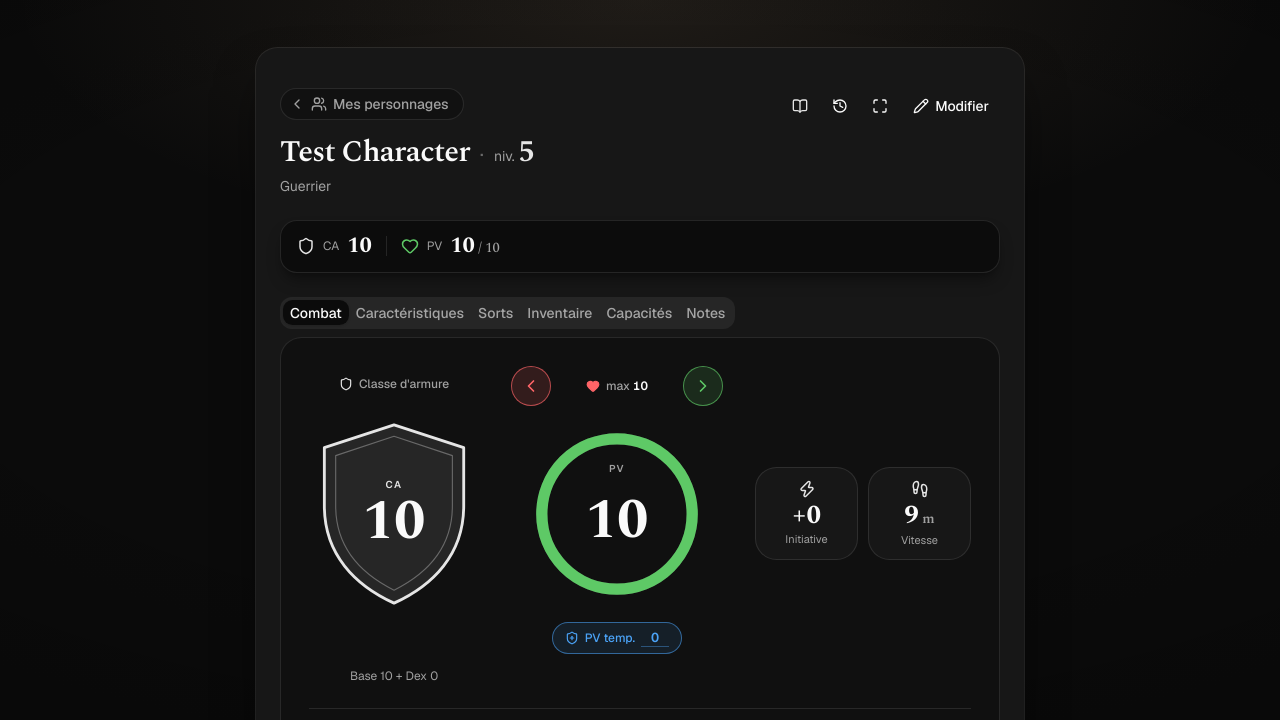
Test case: CharacterPlay › highlights the saving throw total and proficiency of each ability in the Caractéristiques tab
Check: the heading "Test Character" is shown, box [280,134,470,170]
Click the tab "Caractéristiques" at (410,313), box [349,300,471,325]
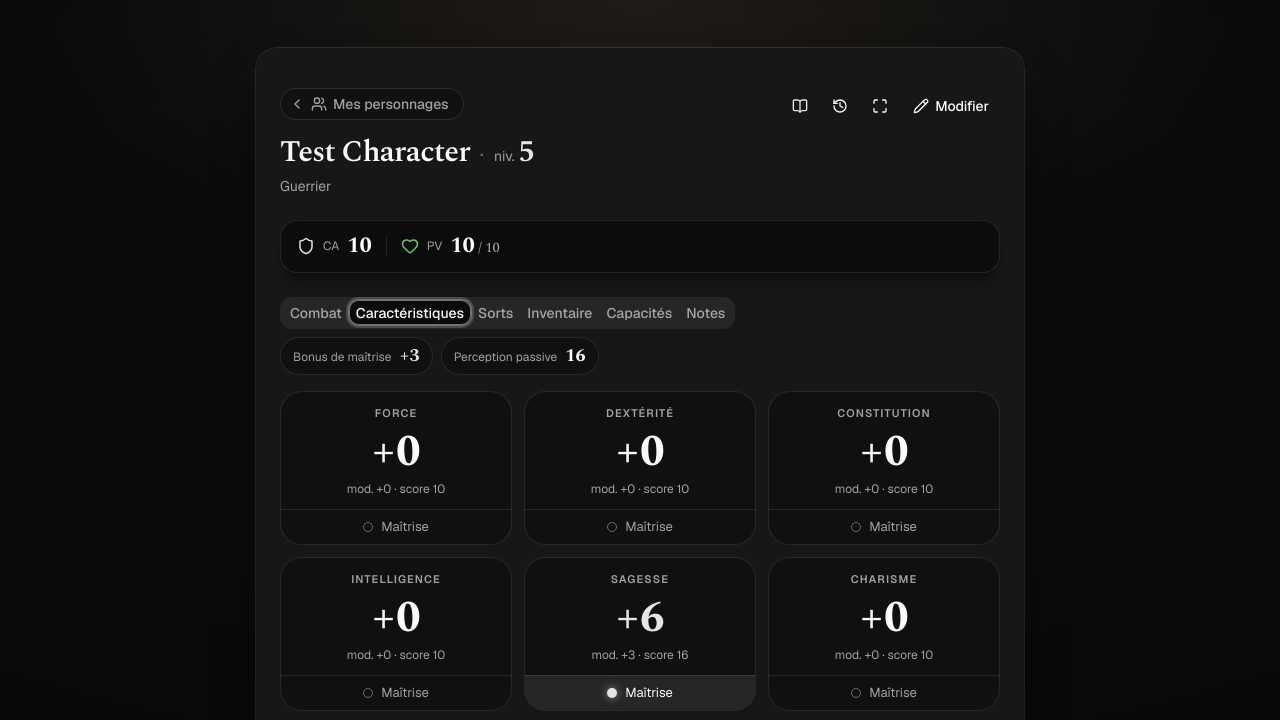
Check: the text "mod. +3 · score 16" is shown, box [592,647,688,663]
Check: the text "16" is shown, box [565,342,586,370]
